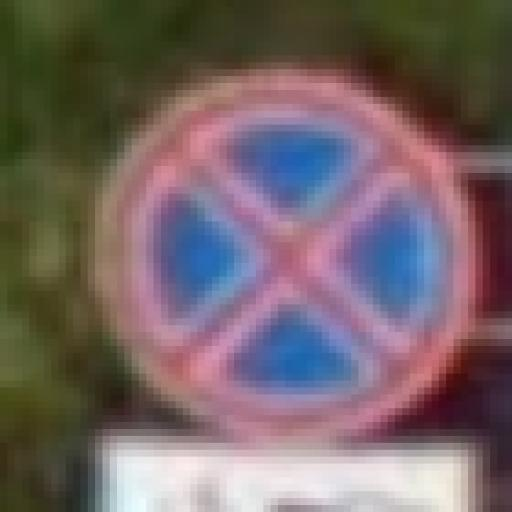traffic_sign: (89, 70, 476, 451)
